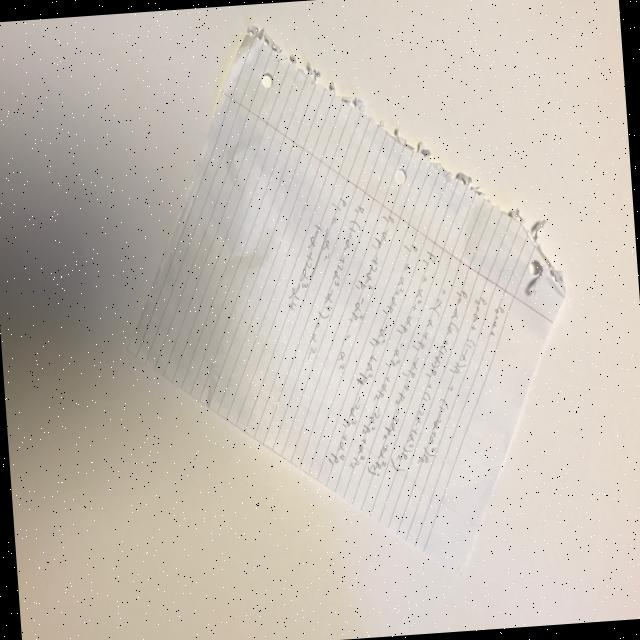paper: (103, 2, 586, 598)
